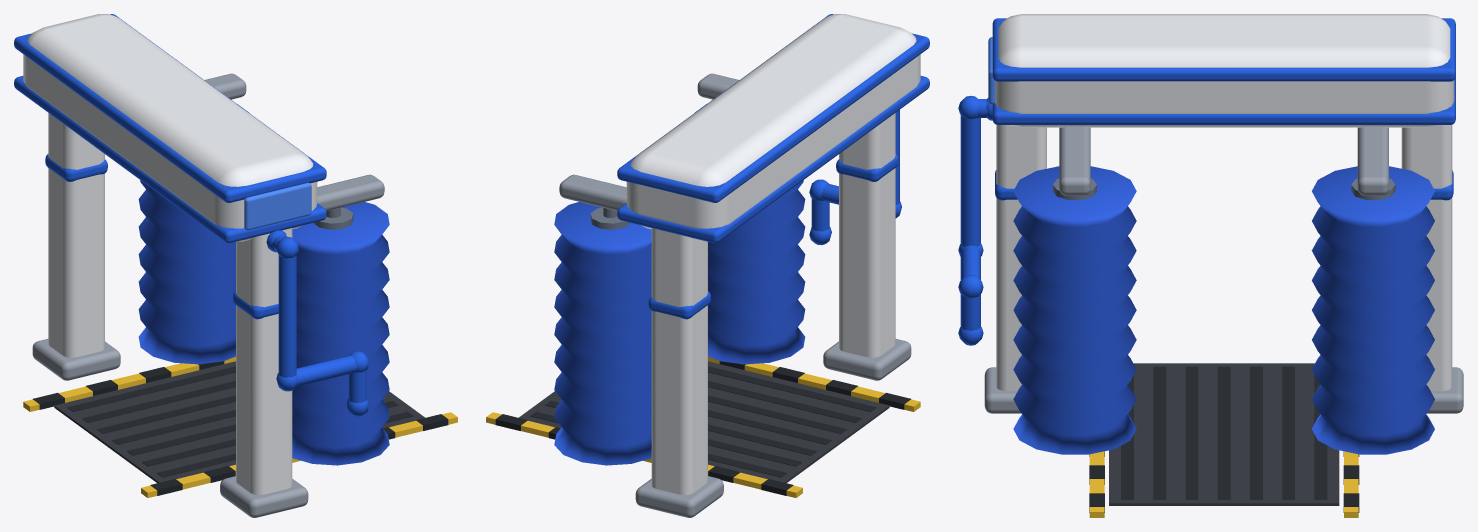
Rendered from machine_brush.glb.
3 views of the same model, side by side, from view 1: azimuth 30°, elevation 25°; view 2: azimuth 150°, elevation 25°; view 3: azimuth 270°, elevation 25° (orthographic). The views are drawn at different scales.
Parts seen in each view (by area): view 1: Machine_brush, RollerR, Floor, RollerL; view 2: Machine_brush, RollerL, Floor, RollerR; view 3: Machine_brush, RollerR, RollerL, Floor.
Boxes of the visible parts, box(x1,y1,x2,y2) form: Machine_brush: box(14, 14, 384, 517); RollerR: box(292, 202, 389, 465); Floor: box(23, 356, 457, 497); RollerL: box(138, 104, 248, 364); Machine_brush: box(559, 14, 929, 517); RollerL: box(554, 202, 651, 465); Floor: box(486, 356, 920, 497); RollerR: box(695, 104, 805, 364); Machine_brush: box(958, 14, 1463, 413); RollerR: box(1013, 166, 1136, 454); RollerL: box(1311, 166, 1434, 454); Floor: box(1089, 363, 1359, 517).
Size of the model in its own units: 4.2 by 4.43 by 5.49.
